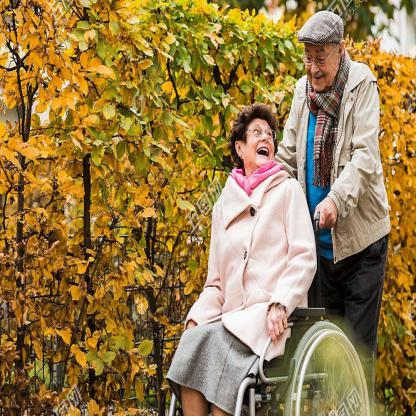wheelchair: (172, 102, 370, 415)
